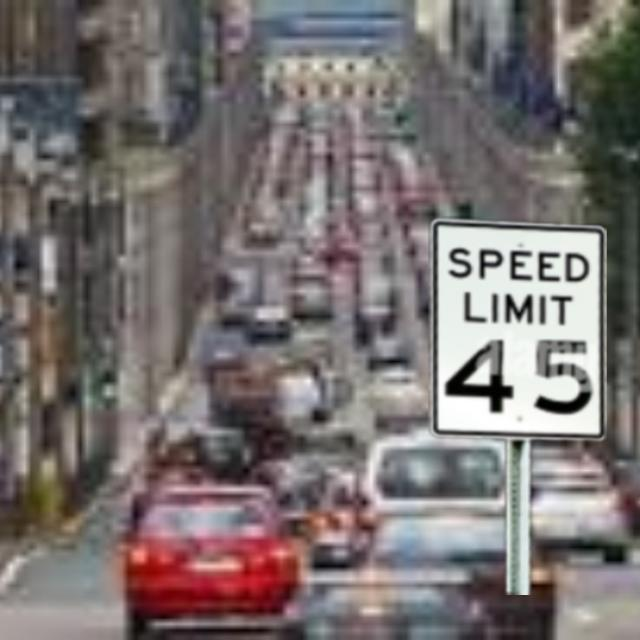speedLimit45: (428, 216, 607, 595)
